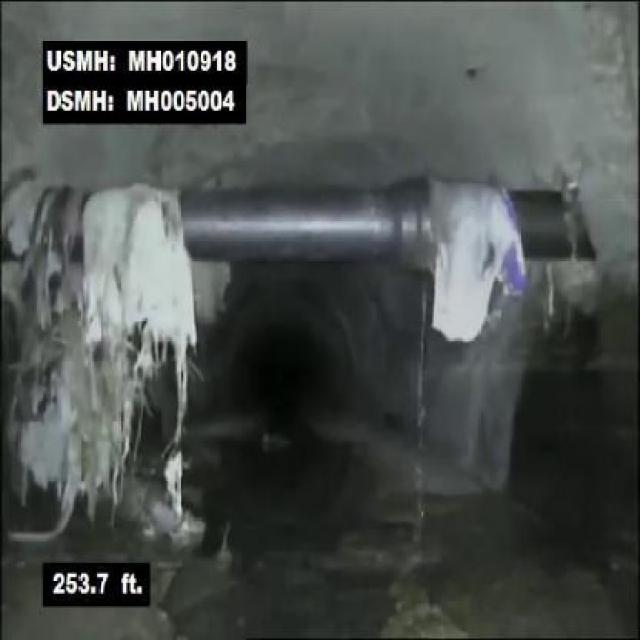Utility intrusion: (0, 180, 602, 269)
